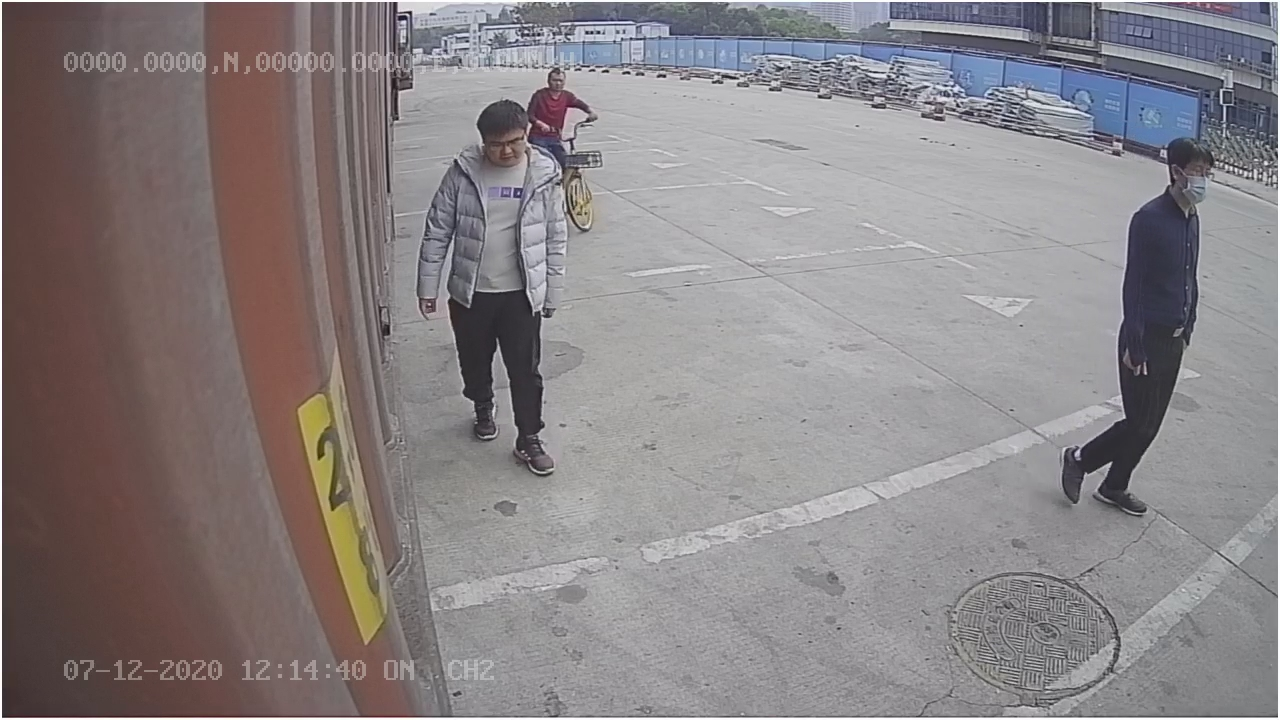person: (1054, 125, 1215, 517)
